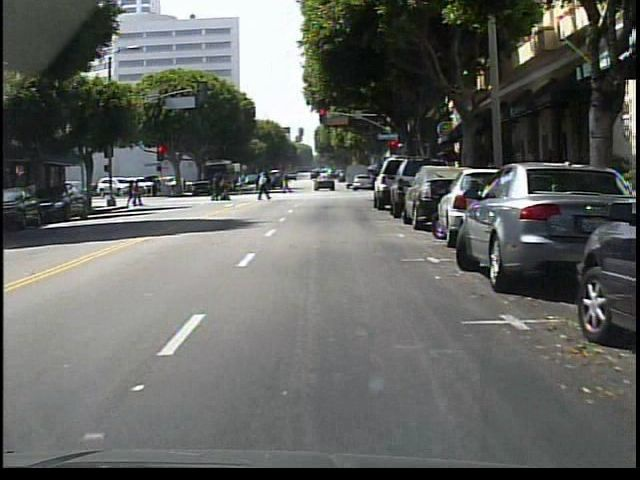person: (252, 168, 273, 202), (277, 169, 294, 198)
